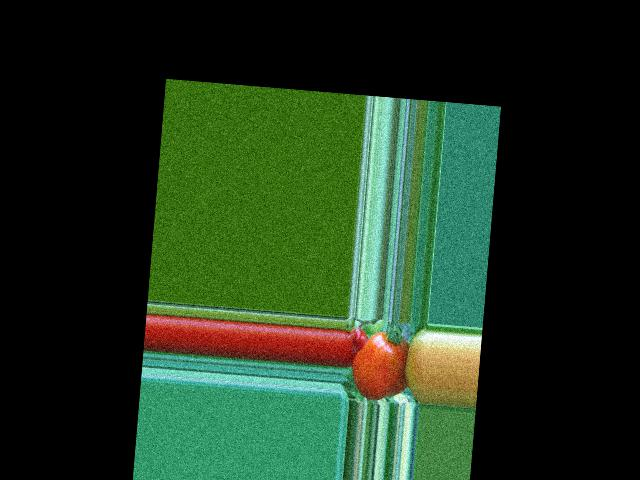tomato: (349, 329, 409, 402)
